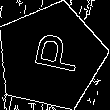P_W: (21, 33, 80, 80)
